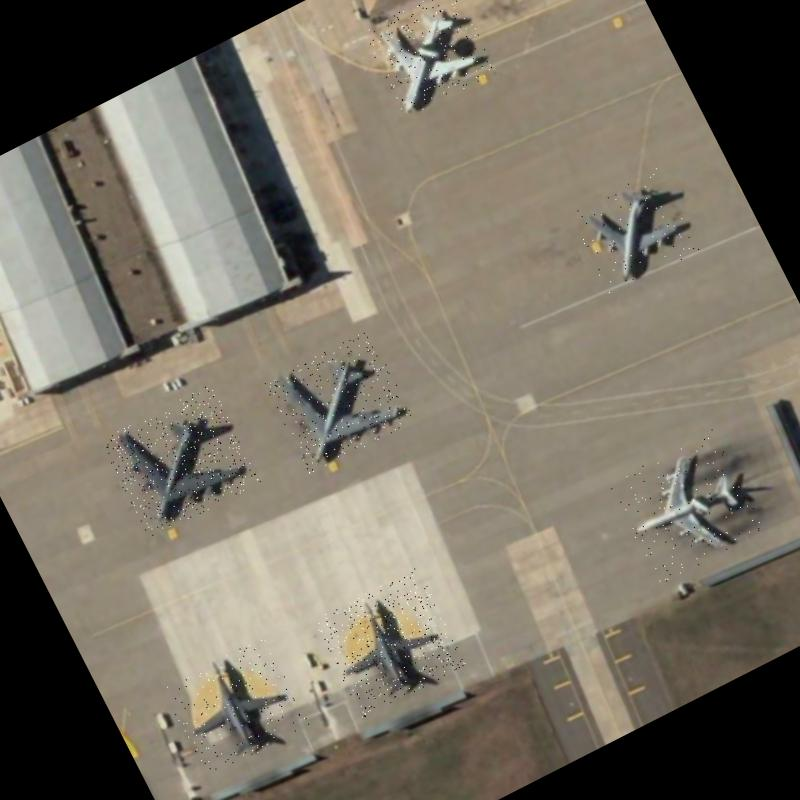A10: (312, 566, 468, 718), (162, 636, 310, 778)
A14: (566, 166, 700, 296)
A7: (607, 428, 765, 585), (359, 0, 497, 118)
A8: (99, 383, 262, 539), (263, 329, 415, 474)
